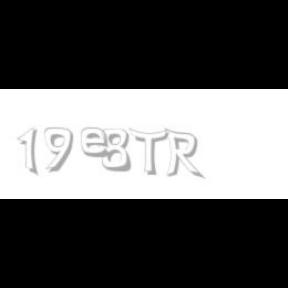1: (17, 128, 39, 176)
8: (102, 128, 130, 172)
9: (44, 128, 74, 172)
R: (164, 128, 202, 180)
T: (128, 128, 168, 176)
e: (80, 128, 114, 158)
